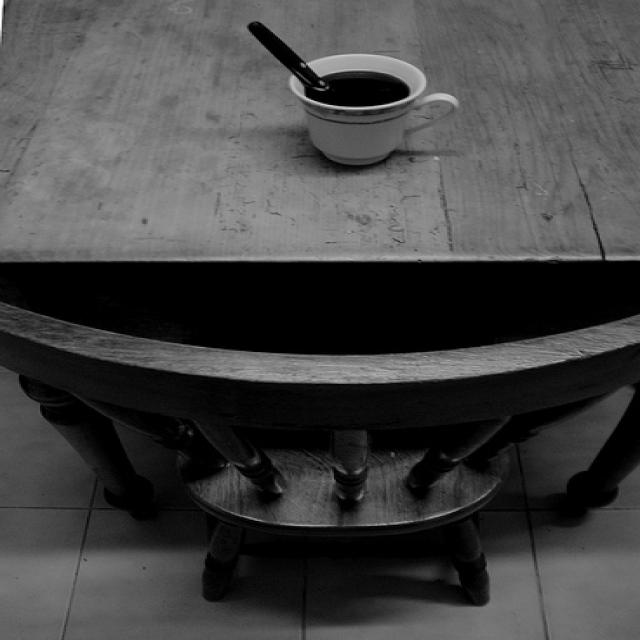chair: (1, 300, 639, 609)
diningtable: (1, 1, 639, 529)
